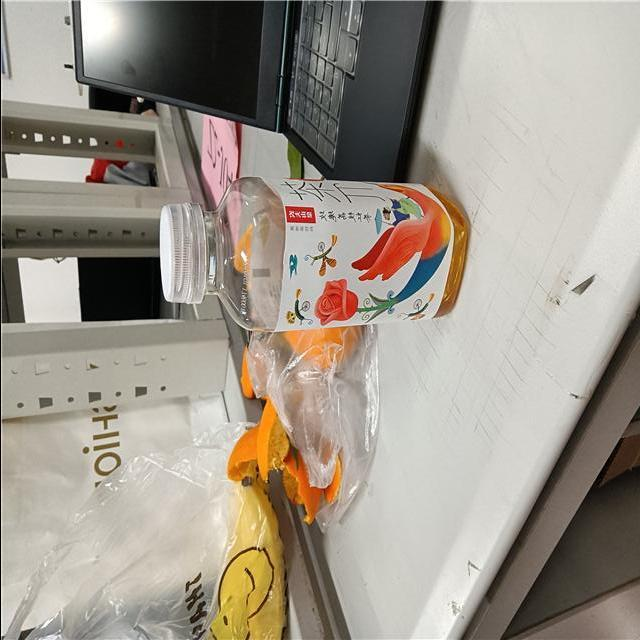orange peel: (227, 396, 289, 491), (282, 448, 324, 526)
